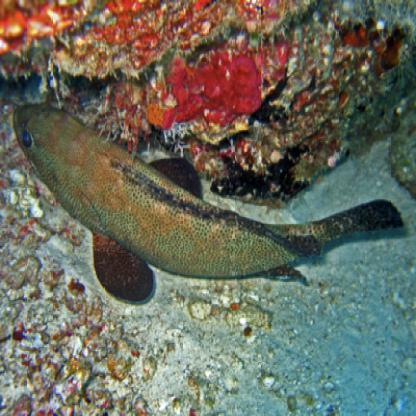Serranidae -Groupers-: (12, 98, 408, 308)
